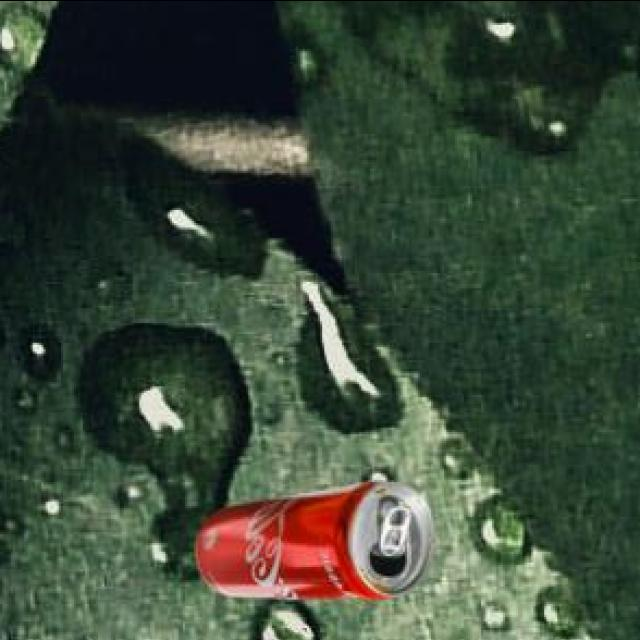logam: (193, 478, 432, 595)
